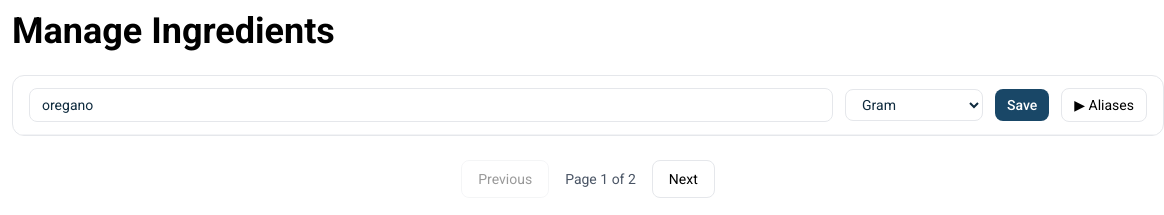
ManageIngredientsPage › pagination controls › Next is disabled on the last page
The image size is (1164, 215).
# re-render with page 1 info: click Next first to increment state
Click the button "Next" at (683, 179), box [652, 160, 715, 198]
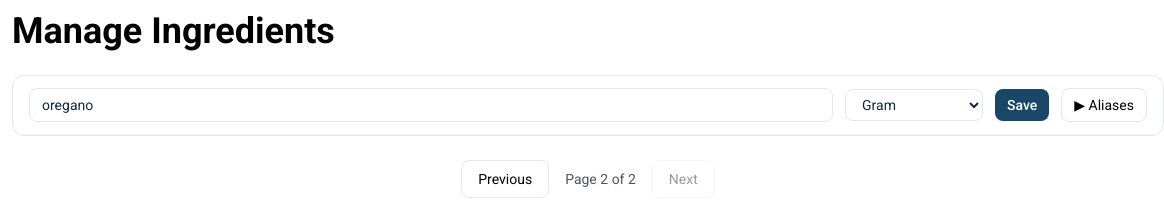
Expected: the button "Next" is disabled, [652, 160, 715, 198]
